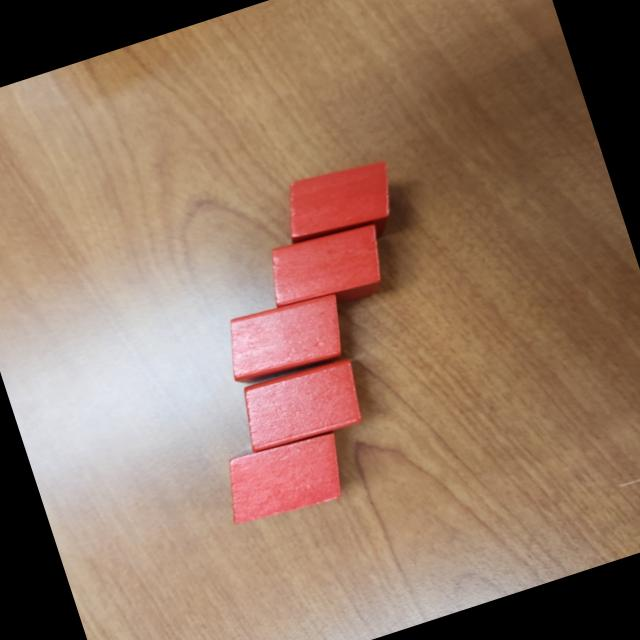red: (258, 215, 398, 325), (214, 285, 357, 392), (213, 426, 354, 533), (232, 353, 372, 459), (275, 152, 404, 249)
